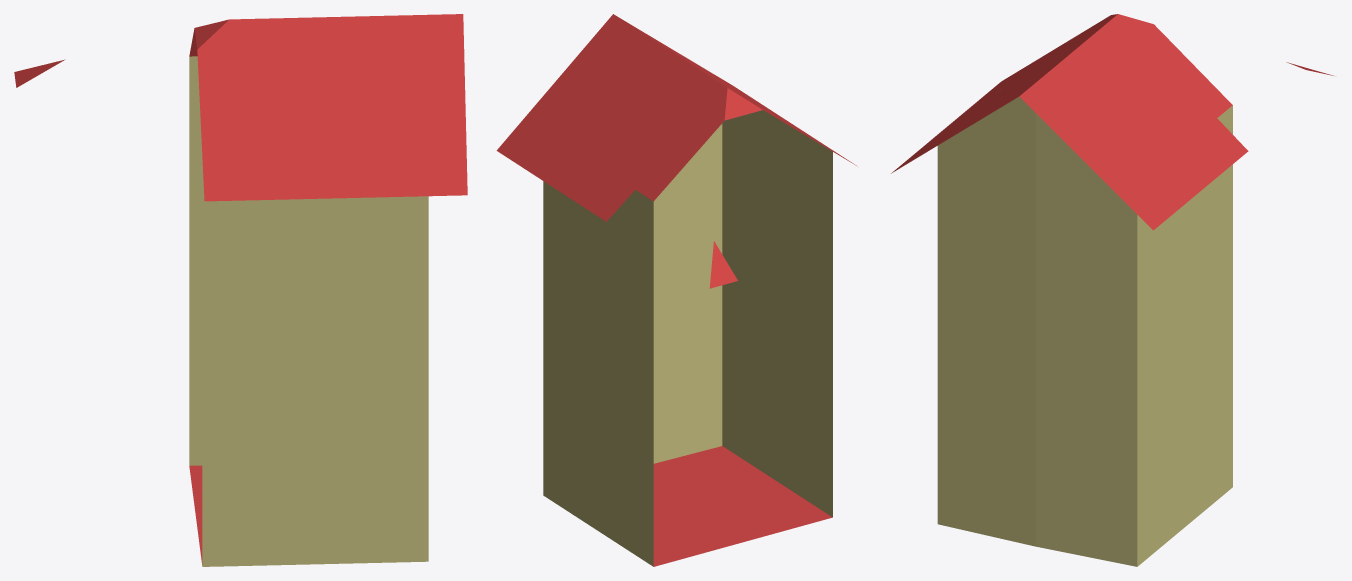
The picture shows the model from 3 angles, left to right: view 1: azimuth 30°, elevation 25°; view 2: azimuth 150°, elevation 25°; view 3: azimuth 270°, elevation 25°; orthographic projection. The views are drawn at different scales.
Bounding box in the file's own units: 7.98 × 9.41 × 10.75.
